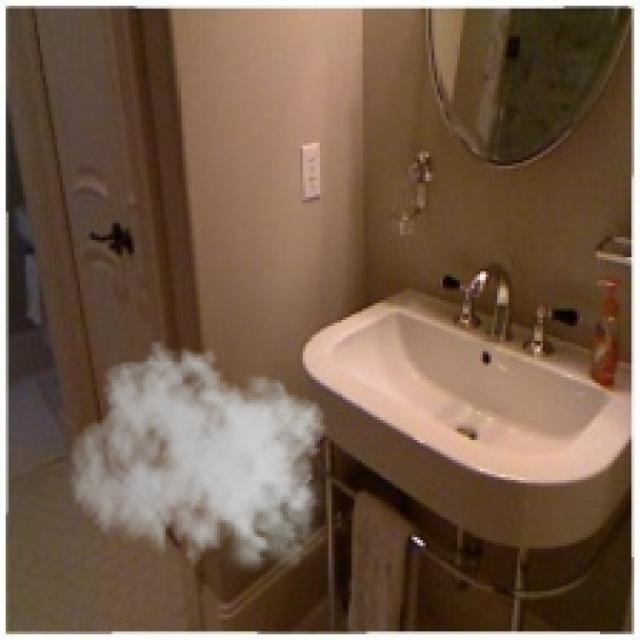smoke: (69, 340, 334, 583)
